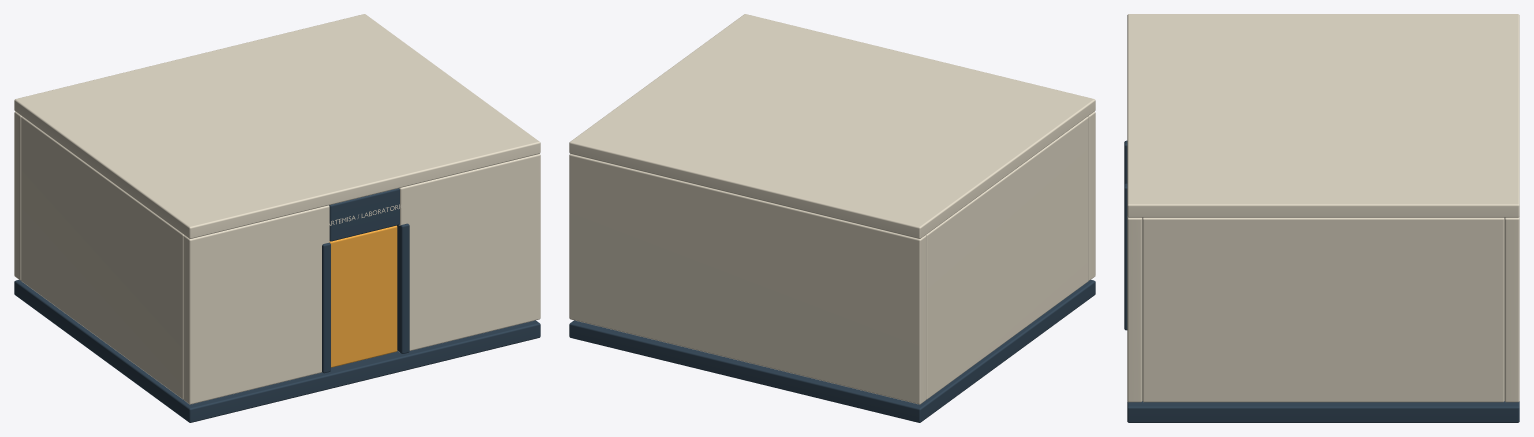
File: laboratory.glb
3 renders of one model, left to right at view 1: azimuth 30°, elevation 25°; view 2: azimuth 150°, elevation 25°; view 3: azimuth 270°, elevation 25°, orthographic. The views are drawn at different scales.
Parts seen in each view (by area): view 1: Body, Cover, Door_0; view 2: Body, Cover; view 3: Body, Cover.
Part boxes in pixels (bbox=[...]): Body: bbox=[14, 111, 540, 422]; Cover: bbox=[14, 14, 540, 238]; Door_0: bbox=[329, 225, 397, 367]; Body: bbox=[569, 111, 1095, 422]; Cover: bbox=[569, 14, 1095, 238]; Body: bbox=[1124, 140, 1519, 422]; Cover: bbox=[1127, 14, 1519, 217].
Bounding box in the file's own units: 6 × 3.2 × 5.24.
